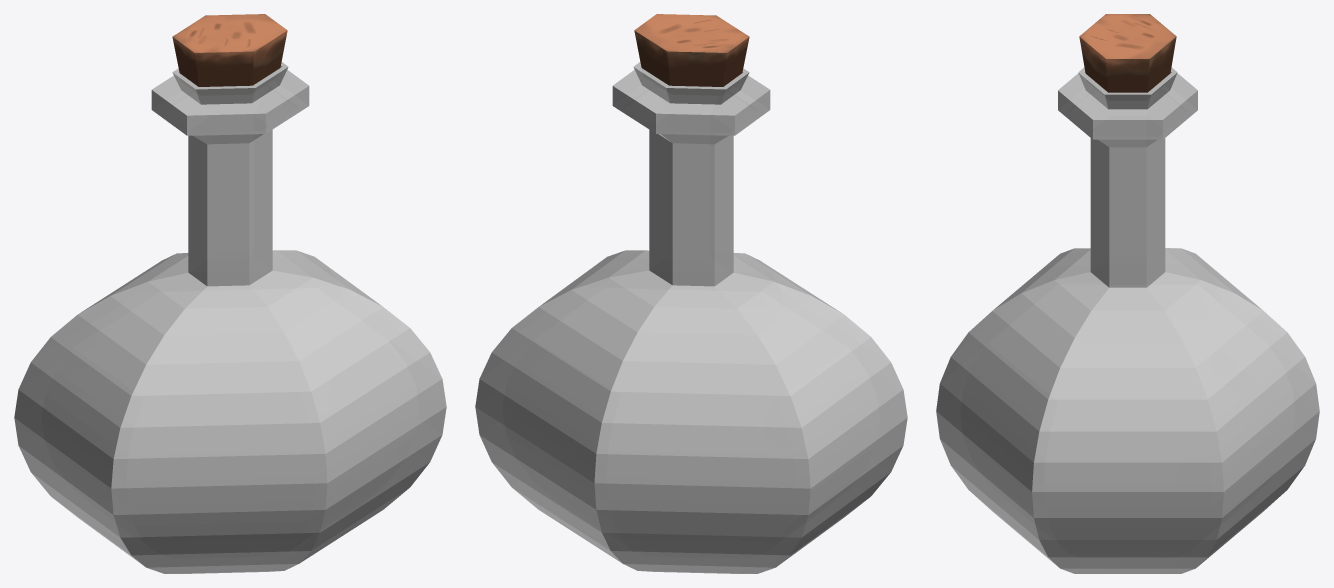
File: Pocion.fbx
3 renders of one model, left to right at view 1: azimuth 30°, elevation 25°; view 2: azimuth 150°, elevation 25°; view 3: azimuth 270°, elevation 25°, orthographic.
Parts seen in each view (by area): view 1: Envase, Corcho; view 2: Envase, Corcho; view 3: Envase, Corcho.
Part boxes in pixels (x1=…): Envase: x1=14, y1=62, x2=446, y2=573; Corcho: x1=172, y1=14, x2=287, y2=86; Envase: x1=475, y1=62, x2=907, y2=573; Corcho: x1=634, y1=14, x2=749, y2=86; Envase: x1=936, y1=67, x2=1319, y2=573; Corcho: x1=1079, y1=14, x2=1176, y2=92.
Bounding box in the file's own units: 0.3249 × 0.4835 × 0.3256.
